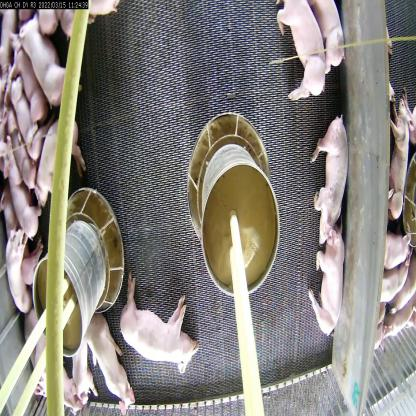Pig: (119, 270, 196, 371), (308, 121, 348, 252), (277, 0, 325, 103), (308, 224, 346, 338), (20, 13, 68, 94), (5, 74, 47, 164), (39, 115, 79, 198), (85, 313, 128, 388), (4, 219, 31, 320), (5, 147, 37, 216), (70, 346, 93, 410)
